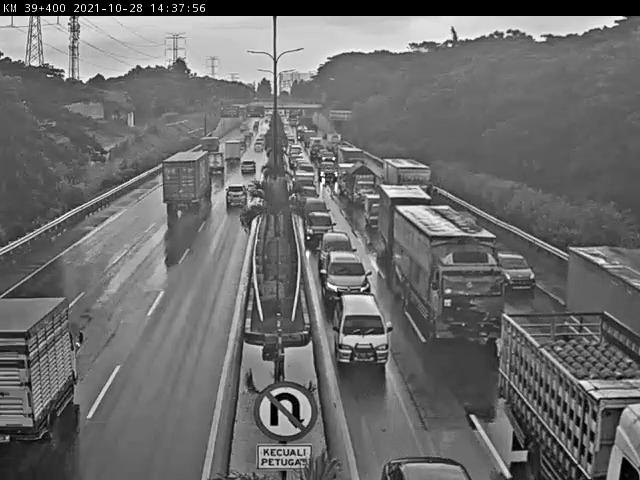big truck: (397, 201, 506, 351), (162, 148, 211, 219)
car: (330, 292, 400, 370), (317, 246, 374, 299), (494, 248, 540, 294), (310, 231, 352, 256), (307, 211, 340, 239), (223, 178, 246, 209), (242, 158, 258, 176)
small truck: (493, 305, 640, 480), (0, 269, 92, 480), (226, 138, 244, 163), (201, 133, 222, 152)
